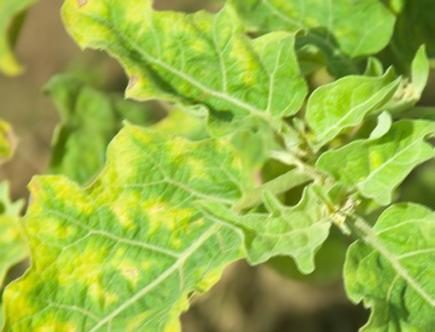Tomato leaf mosaic virus: (0, 124, 270, 332), (51, 0, 321, 136), (352, 179, 435, 332), (194, 184, 340, 264), (325, 106, 435, 211)
